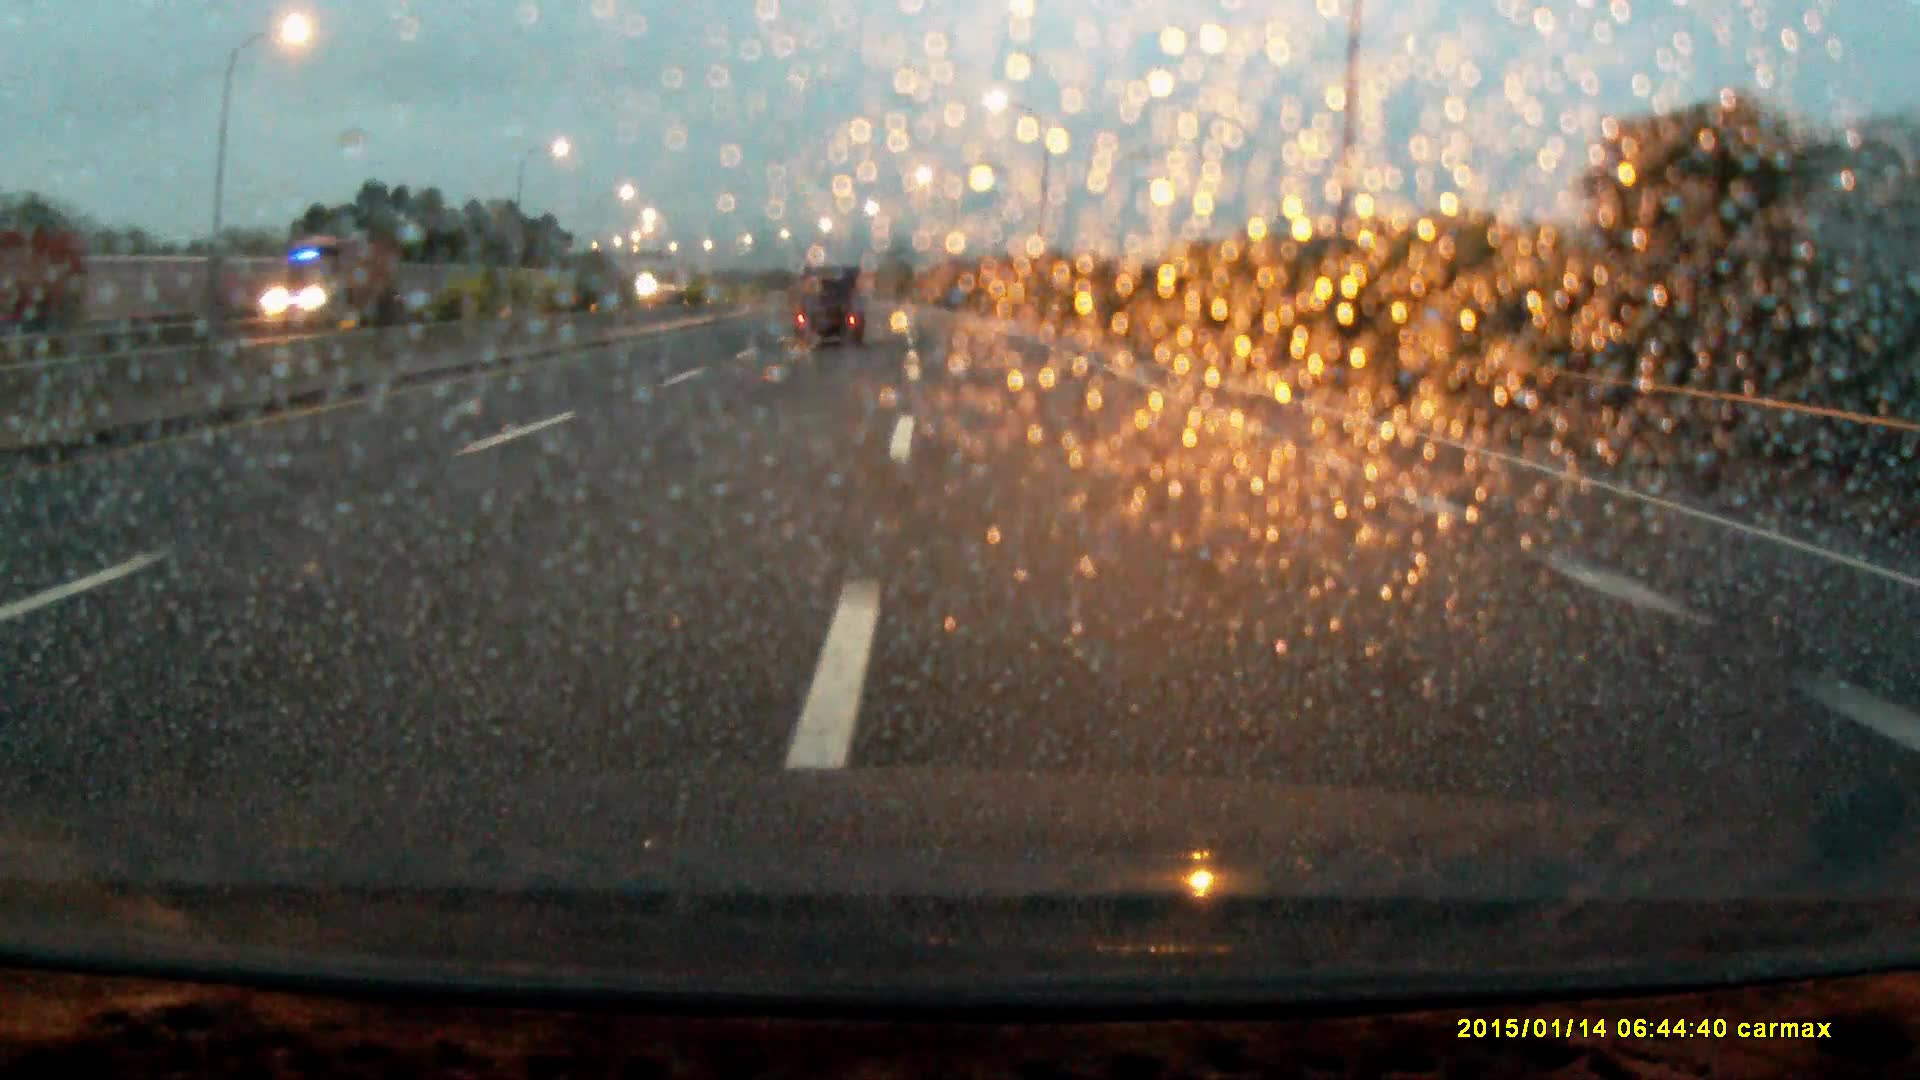vehicle: (258, 240, 402, 322), (789, 272, 866, 357)
